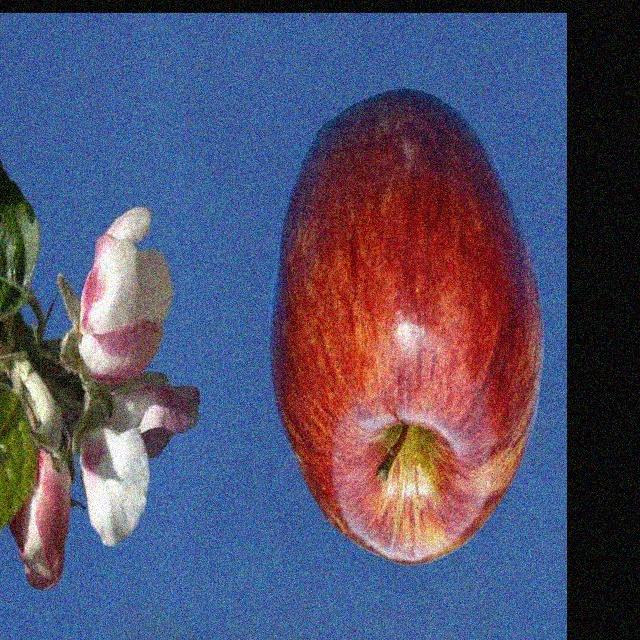red apple: (273, 89, 546, 567)
